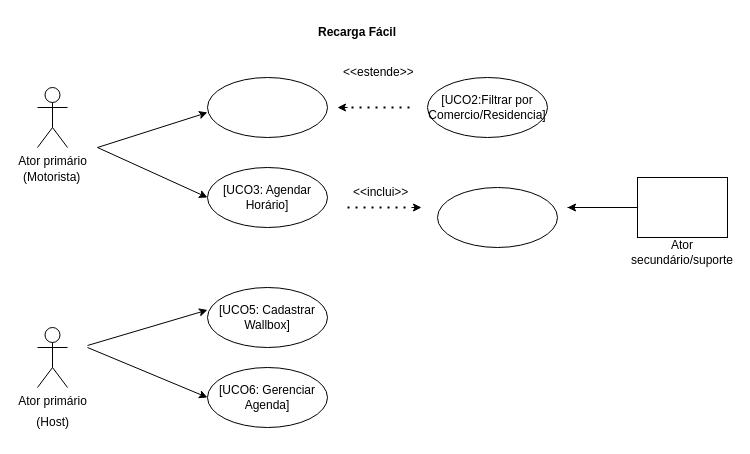
Image size: 750x454. Some labels were removed from this diagram. The box of each missing label's shape, as (x1, y1, x2, y2) in pixels:
(API de Pagamento): (636, 176, 728, 238)
[UCO1: Buscar Pontos de recarga no mapa]: (206, 76, 328, 138)
[UCO4: Realizar Pagamento]: (436, 186, 558, 248)
